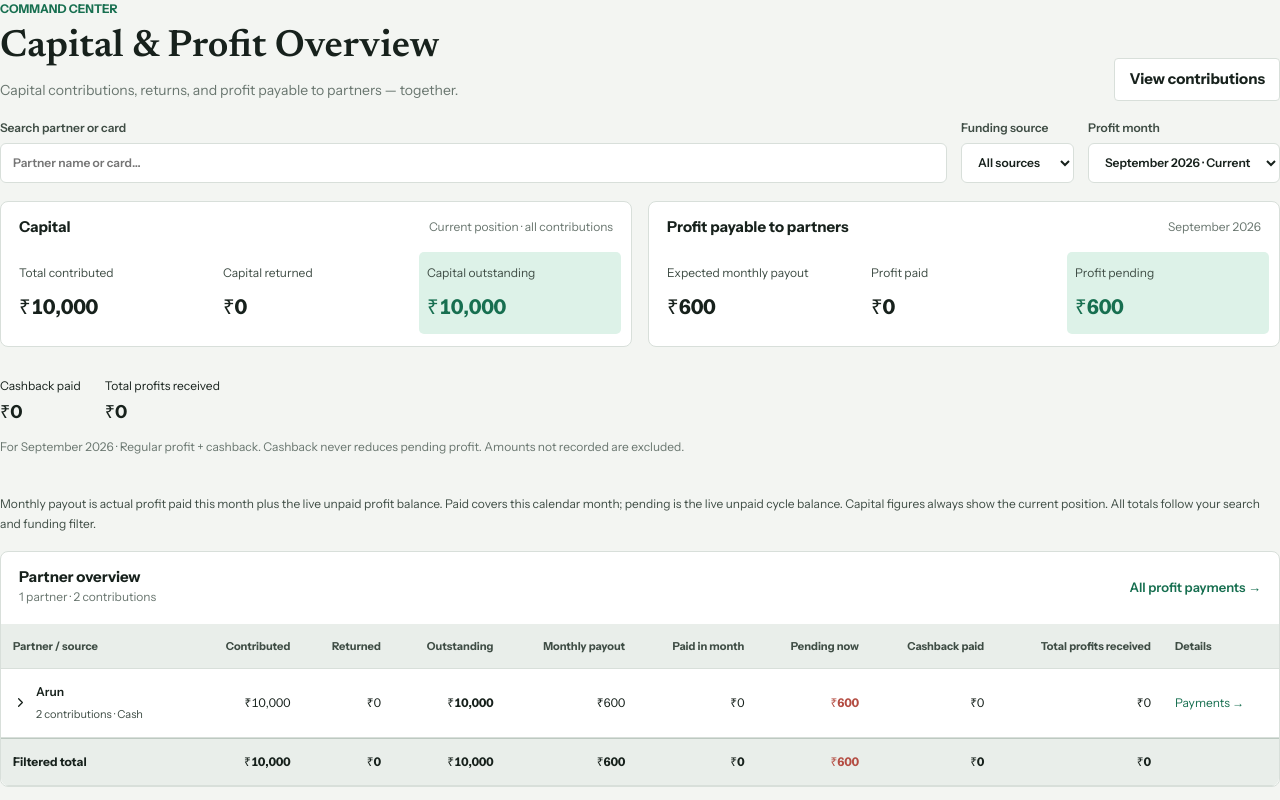
expands contributions without counting combined principal as fresh money
Click the button with aria-label "Expand Arun" at (78, 703), box x1=13 y1=683 x2=143 y2=722
(page scrolled)
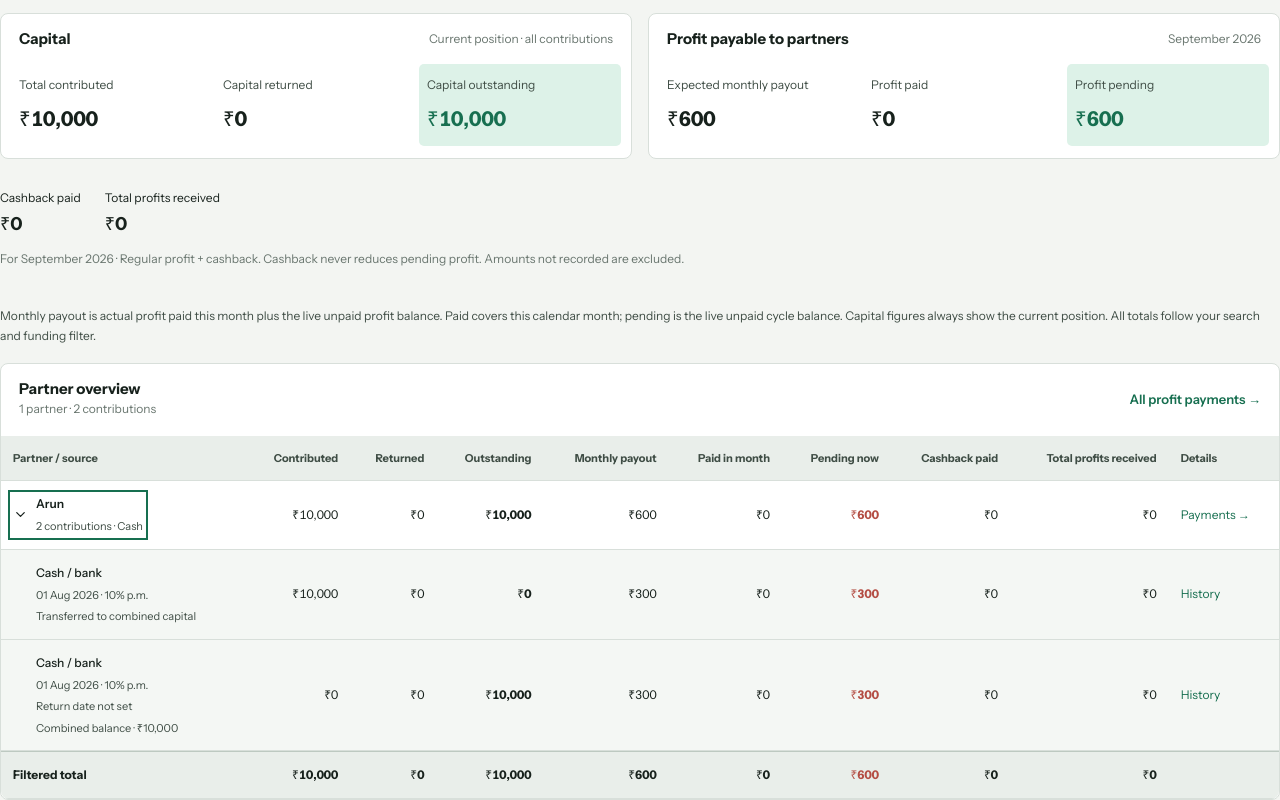
Expected: the row "Filtered total ₹10,000 ₹0 ₹10,000 ₹600 ₹0 ₹600 ₹0 ₹0" is shown, x1=1 y1=751 x2=1279 y2=799
Expected: the text "Transferred to combined capital" is shown, x1=36 y1=609 x2=196 y2=623
Expected: the text "Combined balance · ₹10,000" is shown, x1=36 y1=720 x2=178 y2=734
